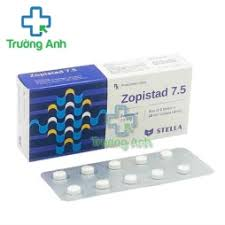Zopitad: (121, 89, 170, 105)
